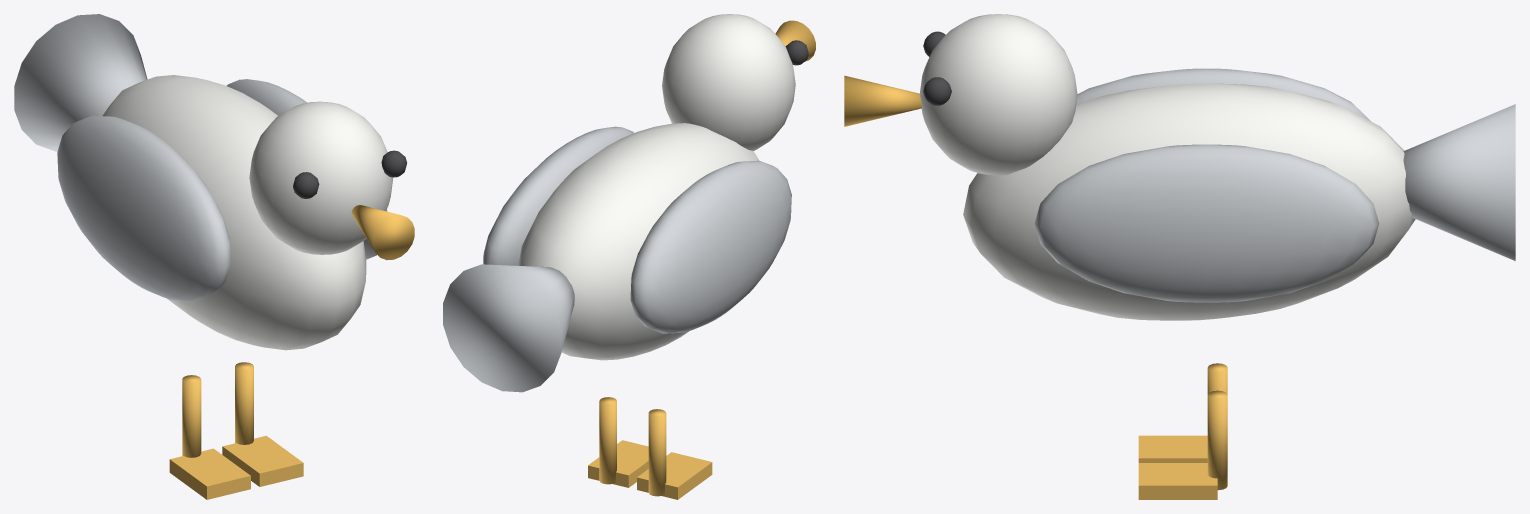
The model's file is gull_statue.glb.
3 views of the same model, side by side, from view 1: azimuth 30°, elevation 25°; view 2: azimuth 150°, elevation 25°; view 3: azimuth 270°, elevation 25° (orthographic). The views are drawn at different scales.
Parts seen in each view (by area): view 1: gull_statue; view 2: gull_statue; view 3: gull_statue.
Part boxes in pixels (x1,y1,x2,y2): gull_statue: (14,14,414,499); gull_statue: (443,14,815,499); gull_statue: (844,14,1515,499).
Bounding box in the file's own units: 0.3826 × 0.699 × 0.935.
